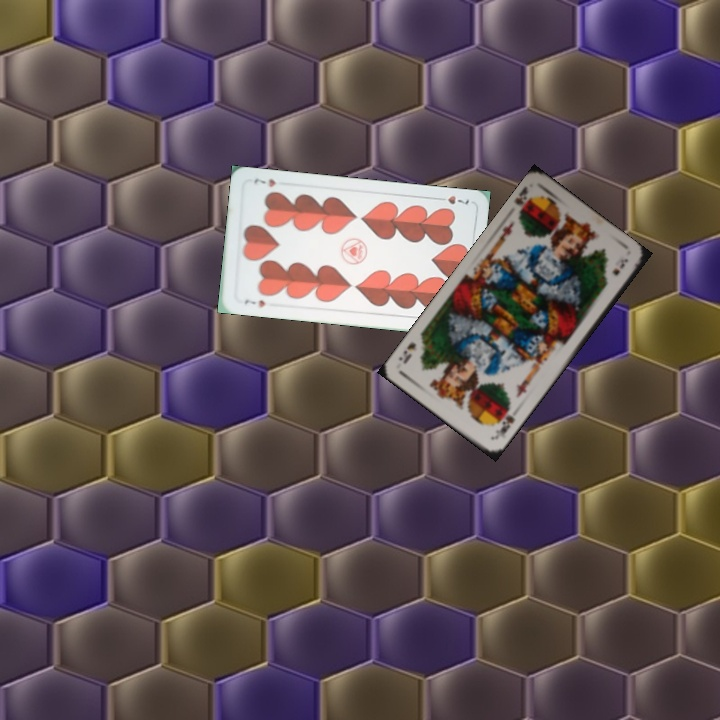H7: (433, 191, 471, 207), (241, 296, 268, 310)
SK: (491, 403, 517, 440), (510, 183, 535, 221)
